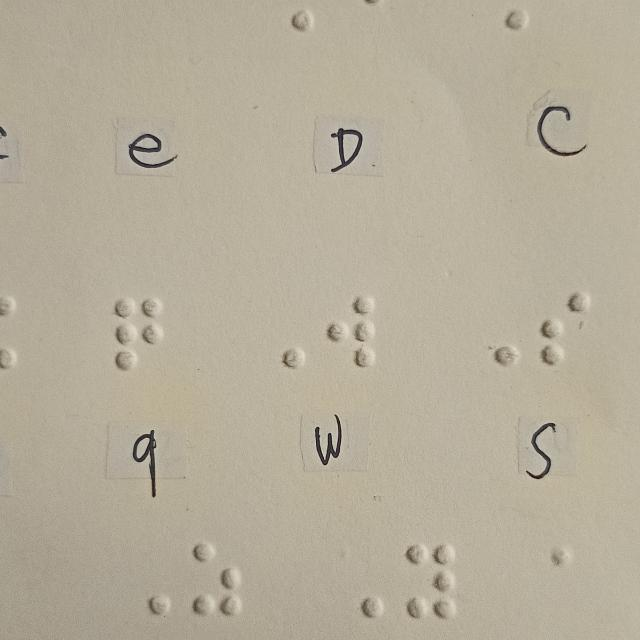capital_sign: (122, 540, 176, 619), (334, 542, 388, 621), (252, 293, 306, 371), (467, 292, 521, 370)
letter_S: (538, 290, 592, 368)
letter_W: (323, 292, 377, 371)
letter_Y: (405, 540, 459, 618)
letter_Z: (191, 540, 245, 619)
letter_q: (112, 296, 166, 374)
